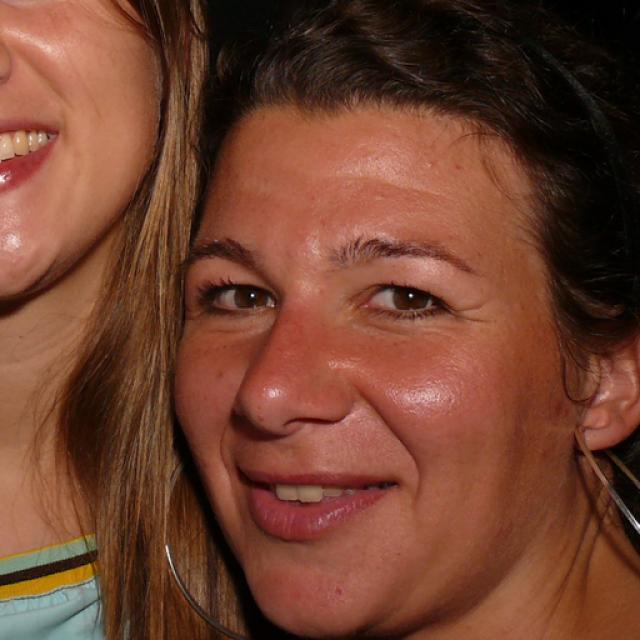Acne: (419, 155, 440, 176), (367, 191, 392, 203), (252, 411, 270, 426)
